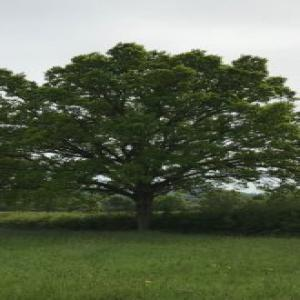Tree: (22, 36, 291, 229)
